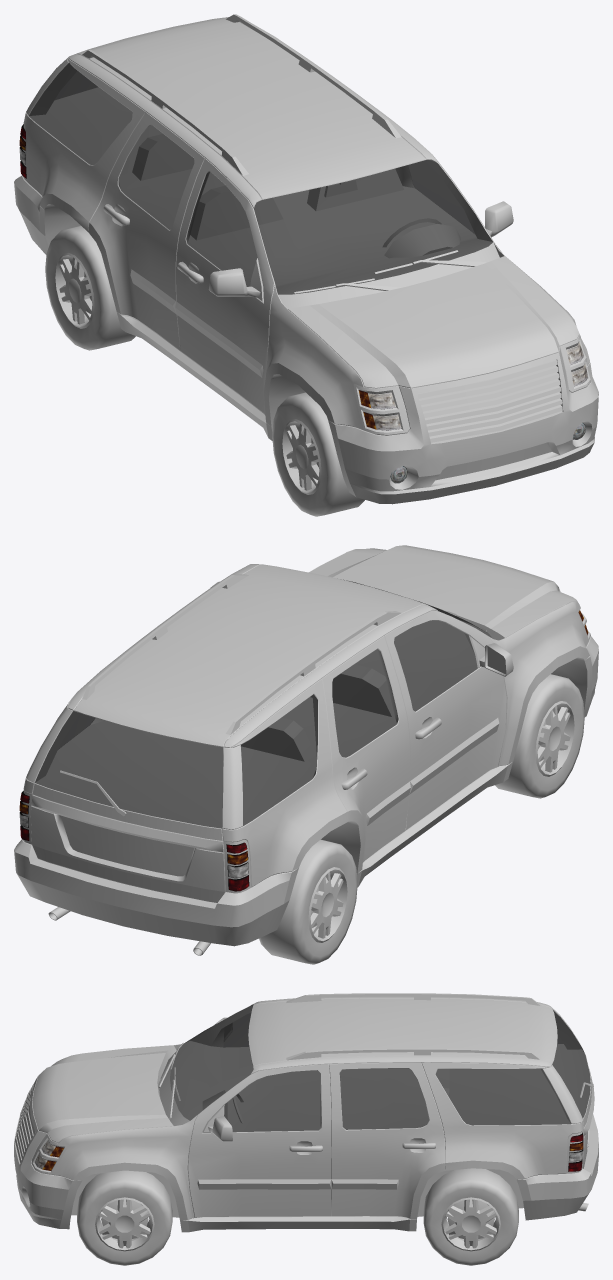
Rendered from SUV.FBX.
The picture shows the model from 3 angles, top to bottom: view 1: azimuth 30°, elevation 25°; view 2: azimuth 150°, elevation 25°; view 3: azimuth 270°, elevation 25°; orthographic projection. The views are drawn at different scales.
Visible parts, largest first — view 1: SUV Body, Wheel_E003, Wheel_E002; view 2: SUV Body, Wheel_E003, Wheel_E002; view 3: SUV Body, Wheel_E001, Wheel_E.
Boxes of the visible parts, x1,y1,x2,y2 form: SUV Body: (14, 14, 598, 504); Wheel_E003: (45, 225, 135, 350); Wheel_E002: (272, 392, 364, 516); SUV Body: (14, 545, 598, 955); Wheel_E003: (259, 839, 357, 964); Wheel_E002: (495, 674, 584, 798); SUV Body: (14, 993, 598, 1232); Wheel_E001: (423, 1168, 518, 1265); Wheel_E: (77, 1170, 172, 1265).
Bounding box in the file's own units: 2.33 × 1.95 × 5.19.
